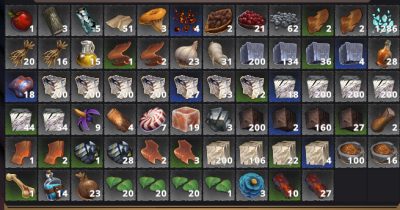ash log: (37, 4, 69, 36)
birch log: (72, 5, 103, 36)
chaos ember: (170, 5, 202, 37)
durable hide: (301, 5, 332, 36), (336, 5, 367, 36)
ethereal dust: (368, 6, 398, 36)
flexible hide: (137, 38, 168, 69), (106, 38, 136, 68)
granite stone: (236, 37, 268, 69), (303, 38, 334, 69), (269, 38, 299, 68), (337, 39, 367, 69)
iron ore: (5, 72, 36, 103)
limestone stone: (38, 70, 70, 102), (71, 70, 103, 102), (104, 70, 136, 102), (203, 71, 235, 103), (236, 70, 268, 102), (137, 71, 168, 102), (170, 71, 201, 102)
marble stone: (302, 71, 333, 102), (336, 71, 367, 102), (5, 104, 36, 135), (270, 72, 300, 102), (369, 72, 399, 102), (39, 105, 69, 135)
oak log: (106, 104, 136, 134)
silver ore: (203, 103, 235, 135)
slate stone: (268, 103, 300, 135), (335, 103, 367, 135), (236, 104, 267, 135), (303, 103, 334, 134)
spruce log: (368, 104, 399, 135)
strong hide: (38, 136, 70, 168), (5, 136, 36, 167)
tin ore: (104, 136, 136, 168), (72, 137, 103, 168)
tough hide: (137, 136, 169, 168), (169, 136, 201, 168)
travertine stone: (235, 136, 268, 169), (203, 136, 235, 168), (268, 136, 300, 168), (302, 136, 334, 168)
yew log: (268, 168, 301, 201), (302, 170, 334, 202)
